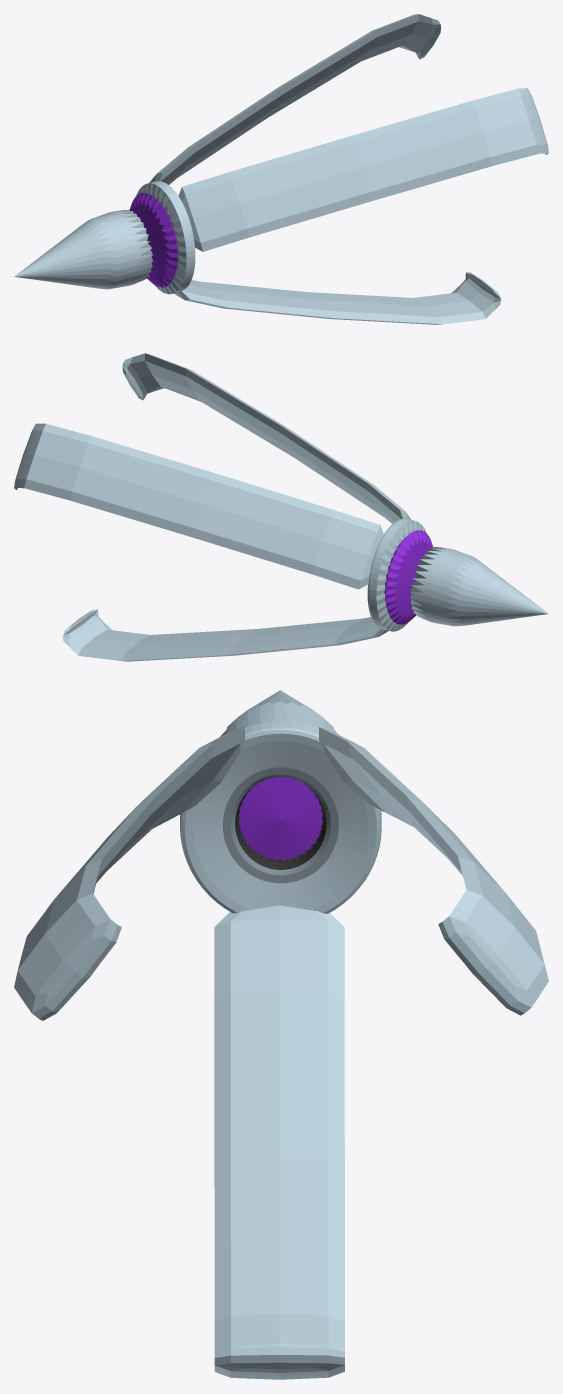
Rendered from decoy01.fbx.
3 views of the same model, one above another, from view 1: azimuth 30°, elevation 25°; view 2: azimuth 150°, elevation 25°; view 3: azimuth 270°, elevation 25° (orthographic). The views are drawn at different scales.
Visible parts, largest first — view 1: Cube; view 2: Cube; view 3: Cube.
Boxes of the visible parts, x1=… form: Cube: x1=14, y1=14, x2=548, y2=324; Cube: x1=14, y1=353, x2=548, y2=661; Cube: x1=14, y1=690, x2=548, y2=1379.
Bounding box in the file's own units: 9.96 × 5.26 × 5.19.
